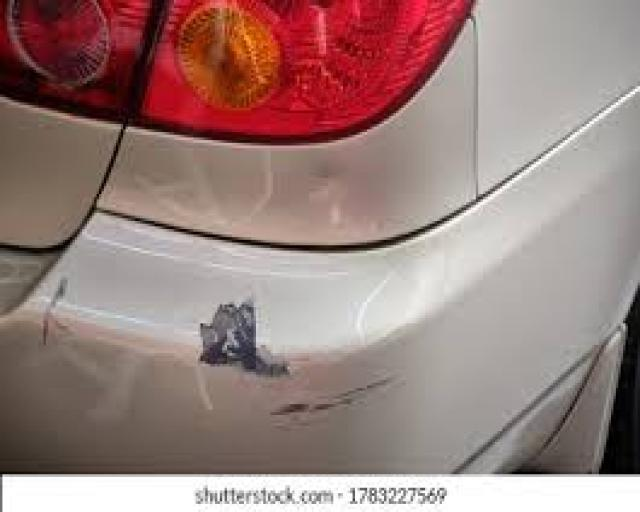scratch: (184, 283, 412, 439), (35, 260, 83, 346)
